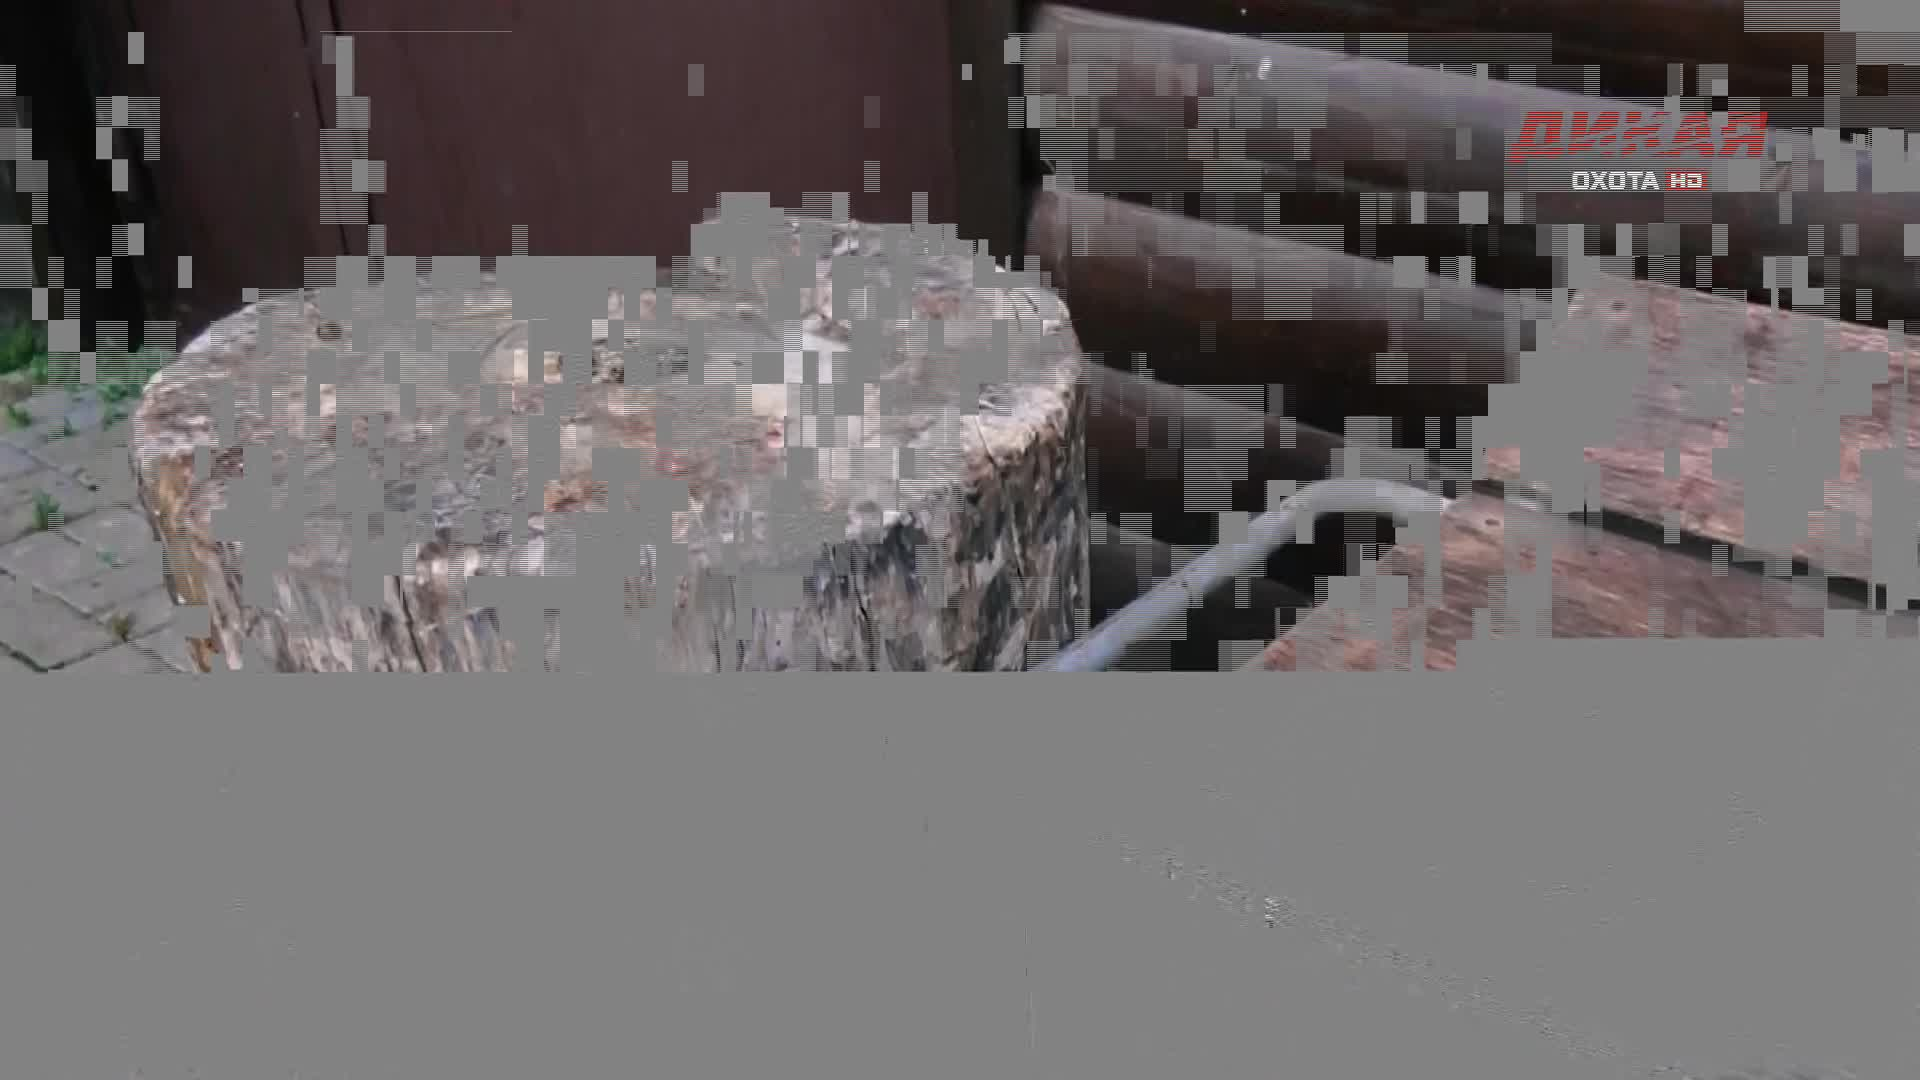Dikaya_Ohota_HD: (1506, 104, 1778, 200)
